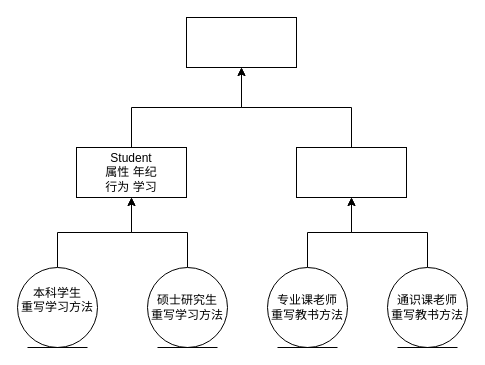
Image size: 485x365. Some labels were removed from this diagram. The shapes that lost their labels are listed below. From the top down, each one's centre as x and y in pixels, then its label:
point (241, 42): Person 属性:姓名 年龄 行为 吃饭 睡觉
point (351, 172): Teacher 属性 学科 行为 教书
